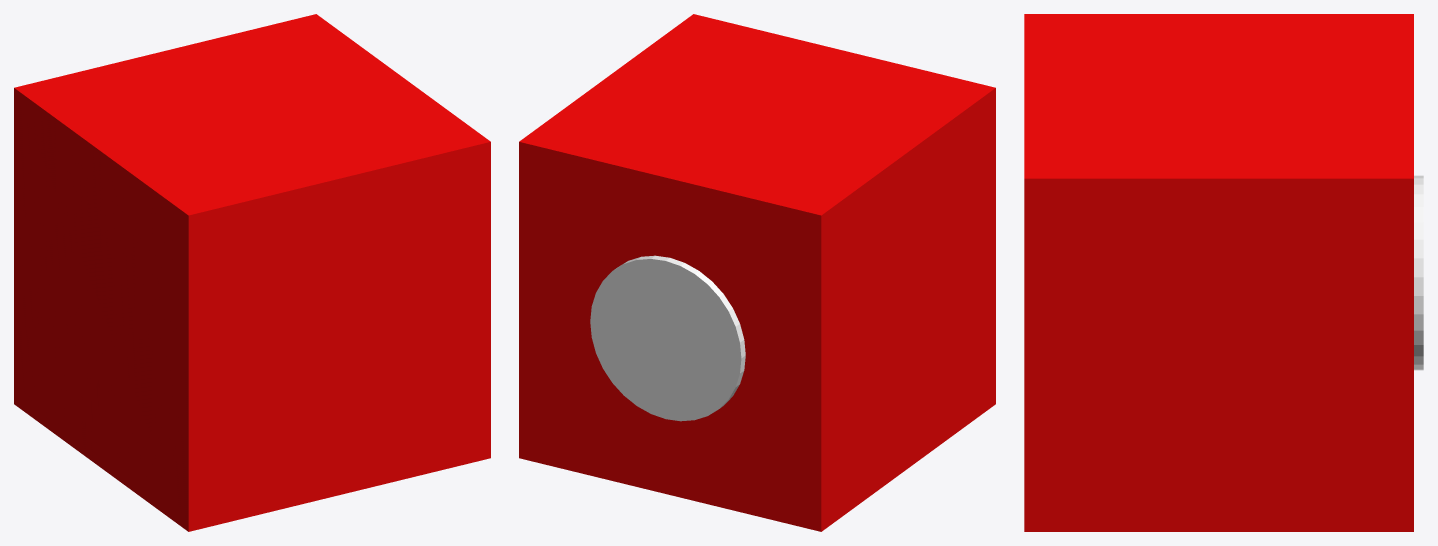
File: CubeDot.fbx
3 renders of one model, left to right at view 1: azimuth 30°, elevation 25°; view 2: azimuth 150°, elevation 25°; view 3: azimuth 270°, elevation 25°, orthographic. The views are drawn at different scales.
Visible parts, largest first — view 1: Cylinder; view 2: Cylinder; view 3: Cylinder.
Part boxes in pixels (x1,y1,x2,y2): Cylinder: [14, 14, 490, 531]; Cylinder: [519, 14, 995, 531]; Cylinder: [1024, 14, 1423, 531].
Size of the model in its own units: 200 by 200 by 205.
